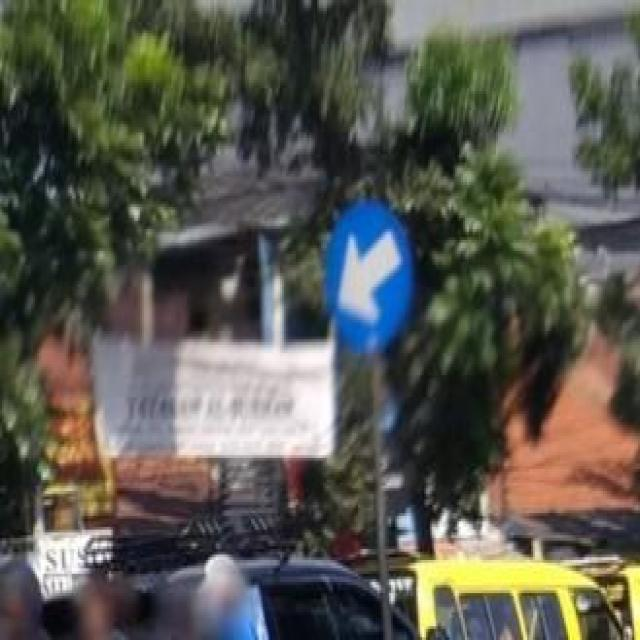traffic sign: (331, 204, 409, 350)
